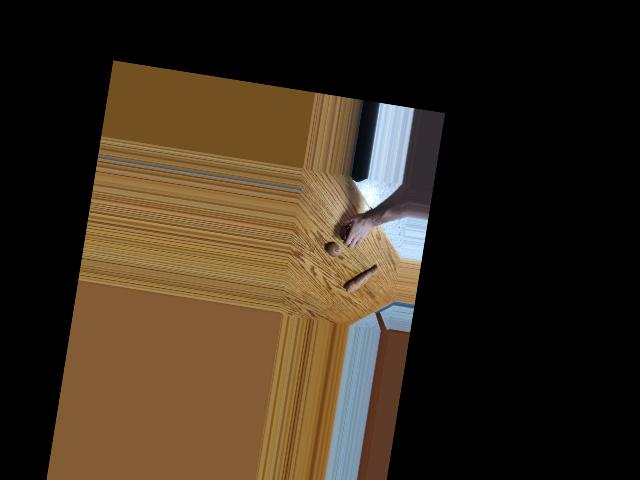onion: (339, 225, 356, 242)
